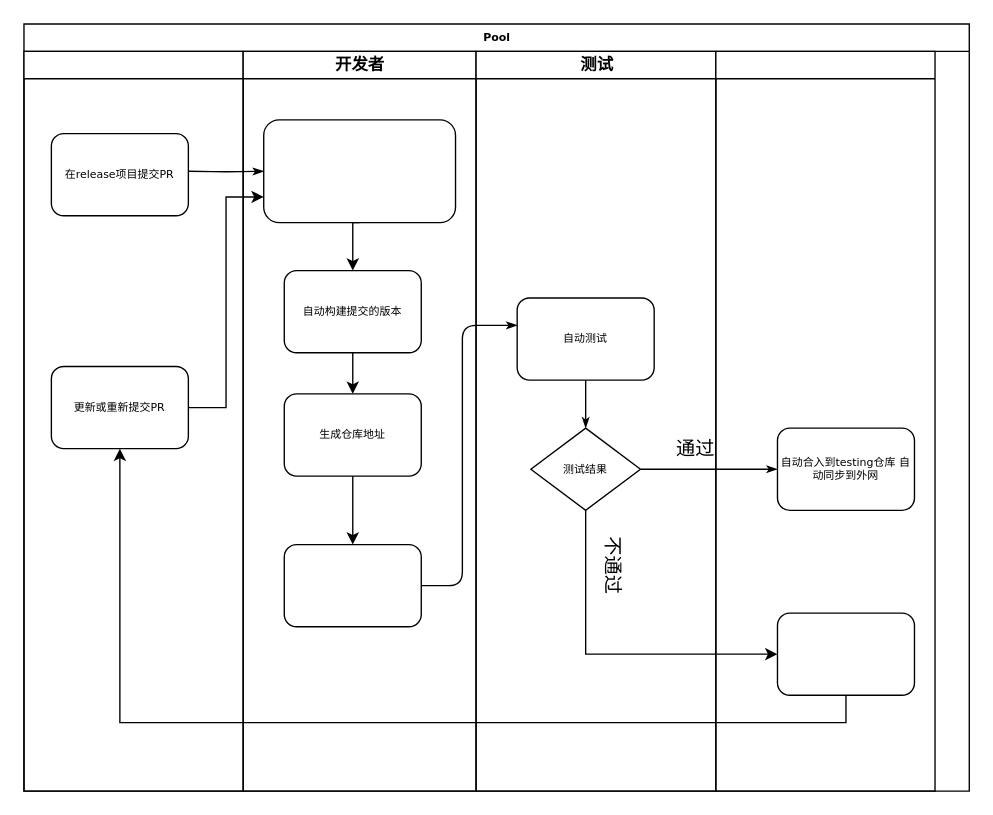
Some shapes in this 993 by 815 pixel diagram are drawn without their labels. The shapes that lost their labels are listed below. From the top down, each one's box as (x1, y1, x2, y2) in pixels, then its label:
(262, 119, 456, 223): 提交PR更新文件
(23, 50, 243, 791): 开始
(714, 50, 935, 791): 结束
(283, 543, 421, 627): 备注更新内容
(776, 612, 914, 695): 打回本次PR
